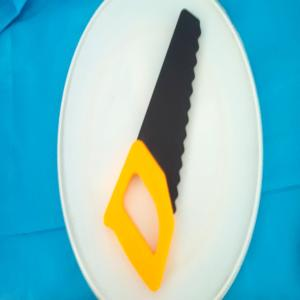serrote: (102, 8, 202, 292)
